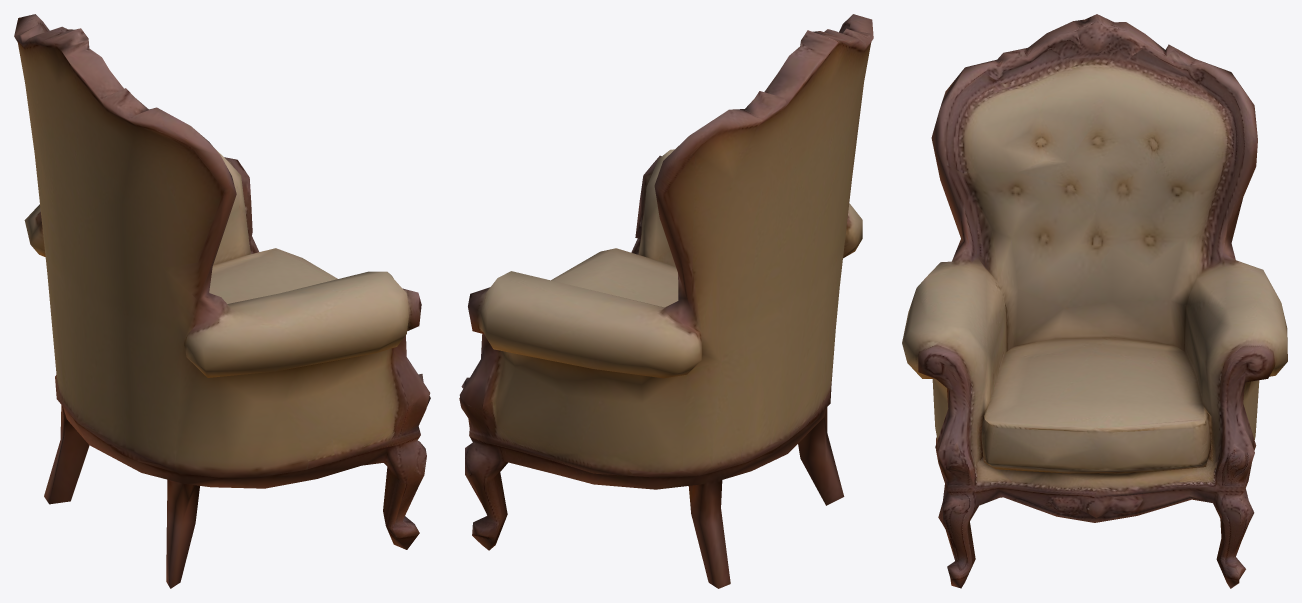
File: chair.glb
3 renders of one model, left to right at view 1: azimuth 30°, elevation 25°; view 2: azimuth 150°, elevation 25°; view 3: azimuth 270°, elevation 25°, orthographic. The views are drawn at different scales.
Visible parts, largest first — view 1: tripo_node_bf0e83a3-cb65-4f32-a34d-5764cd54c7bb; view 2: tripo_node_bf0e83a3-cb65-4f32-a34d-5764cd54c7bb; view 3: tripo_node_bf0e83a3-cb65-4f32-a34d-5764cd54c7bb.
Boxes of the visible parts, <box> form: tripo_node_bf0e83a3-cb65-4f32-a34d-5764cd54c7bb: <box>14,14,430,588</box>; tripo_node_bf0e83a3-cb65-4f32-a34d-5764cd54c7bb: <box>459,14,873,588</box>; tripo_node_bf0e83a3-cb65-4f32-a34d-5764cd54c7bb: <box>902,14,1287,588</box>.
Size of the model in its own units: 0.6059 by 0.9833 by 0.7469.
1 material, 1 textured.
